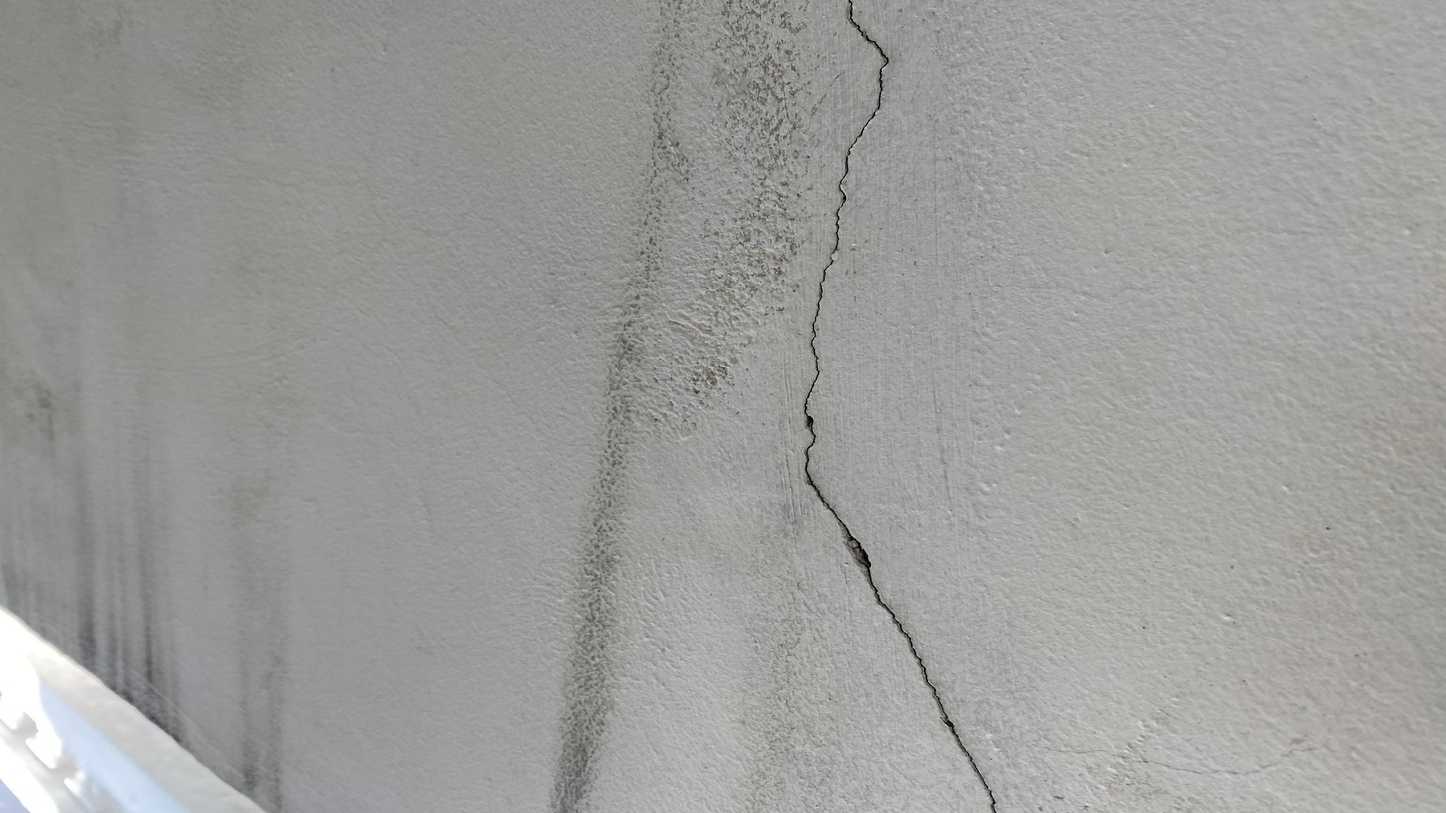crack: (804, 0, 997, 812)
